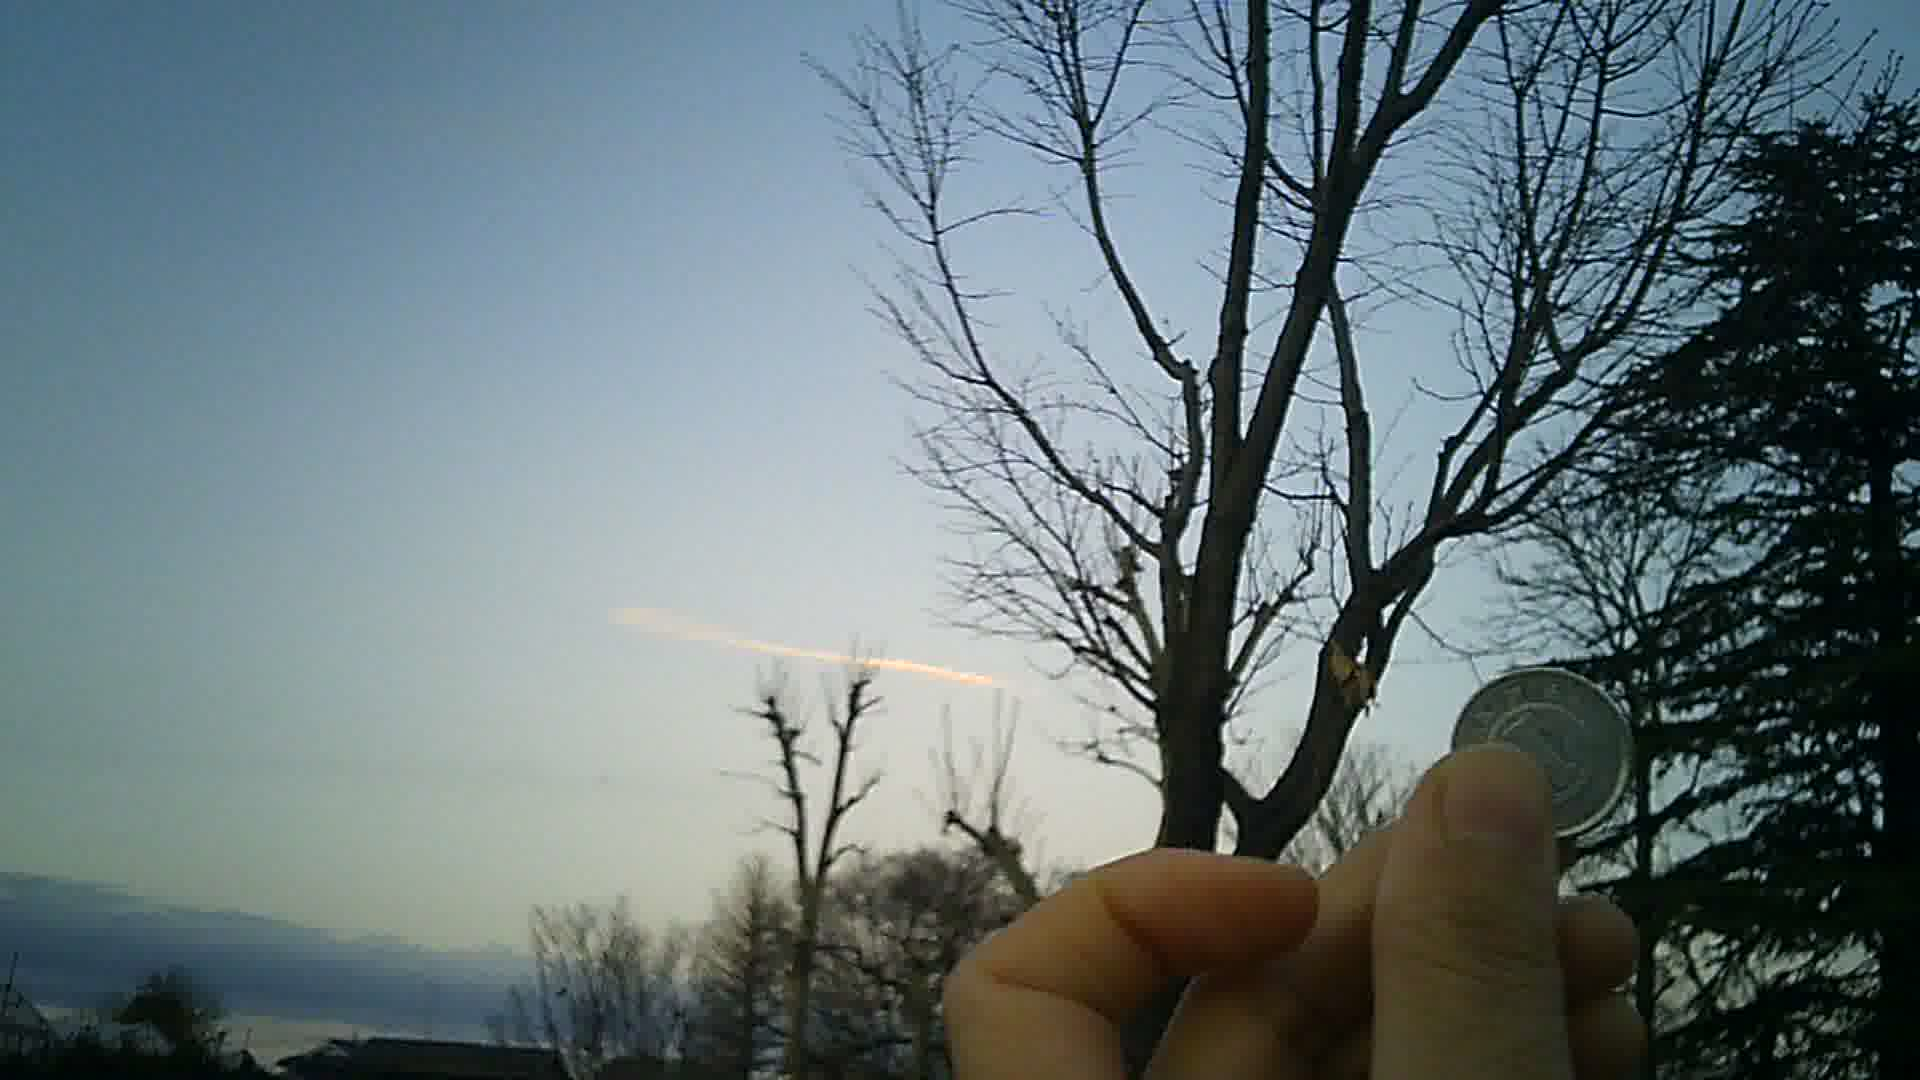1 Yen: (1433, 665, 1642, 837)
